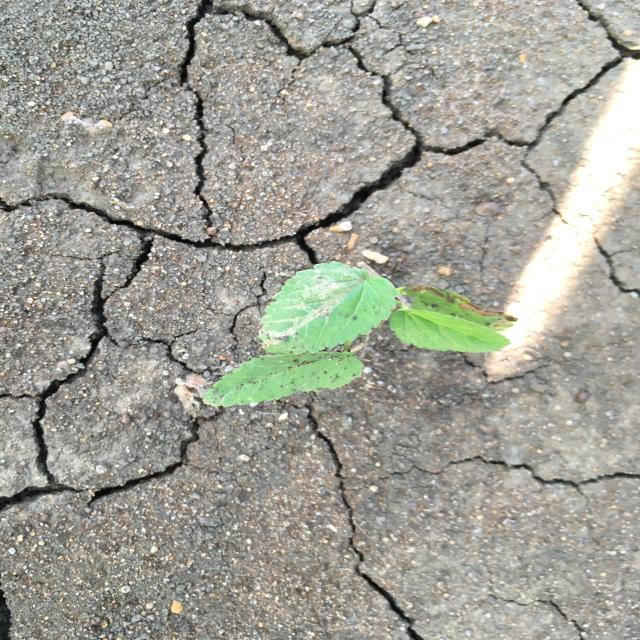PricklySida: (199, 257, 521, 412)
